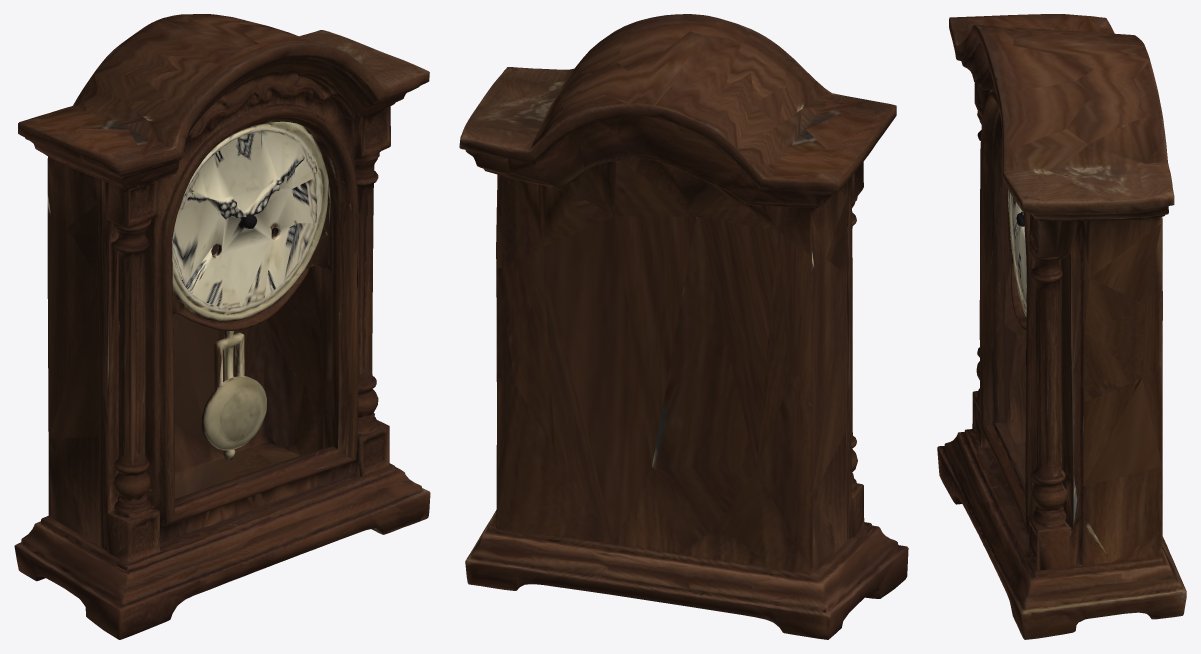
Rendered from Item_V03.fbx.
3 views of the same model, side by side, from view 1: azimuth 30°, elevation 25°; view 2: azimuth 150°, elevation 25°; view 3: azimuth 270°, elevation 25° (orthographic). The views are drawn at different scales.
Parts seen in each view (by area): view 1: Body_V03; view 2: Body_V03; view 3: Body_V03.
Part boxes in pixels (left/top/right/bottom): Body_V03: left=14, top=14, right=430, bottom=639; Body_V03: left=459, top=14, right=908, bottom=639; Body_V03: left=937, top=14, right=1186, bottom=639.
Bounding box in the file's own units: 0.1749 × 0.24 × 0.1041.
